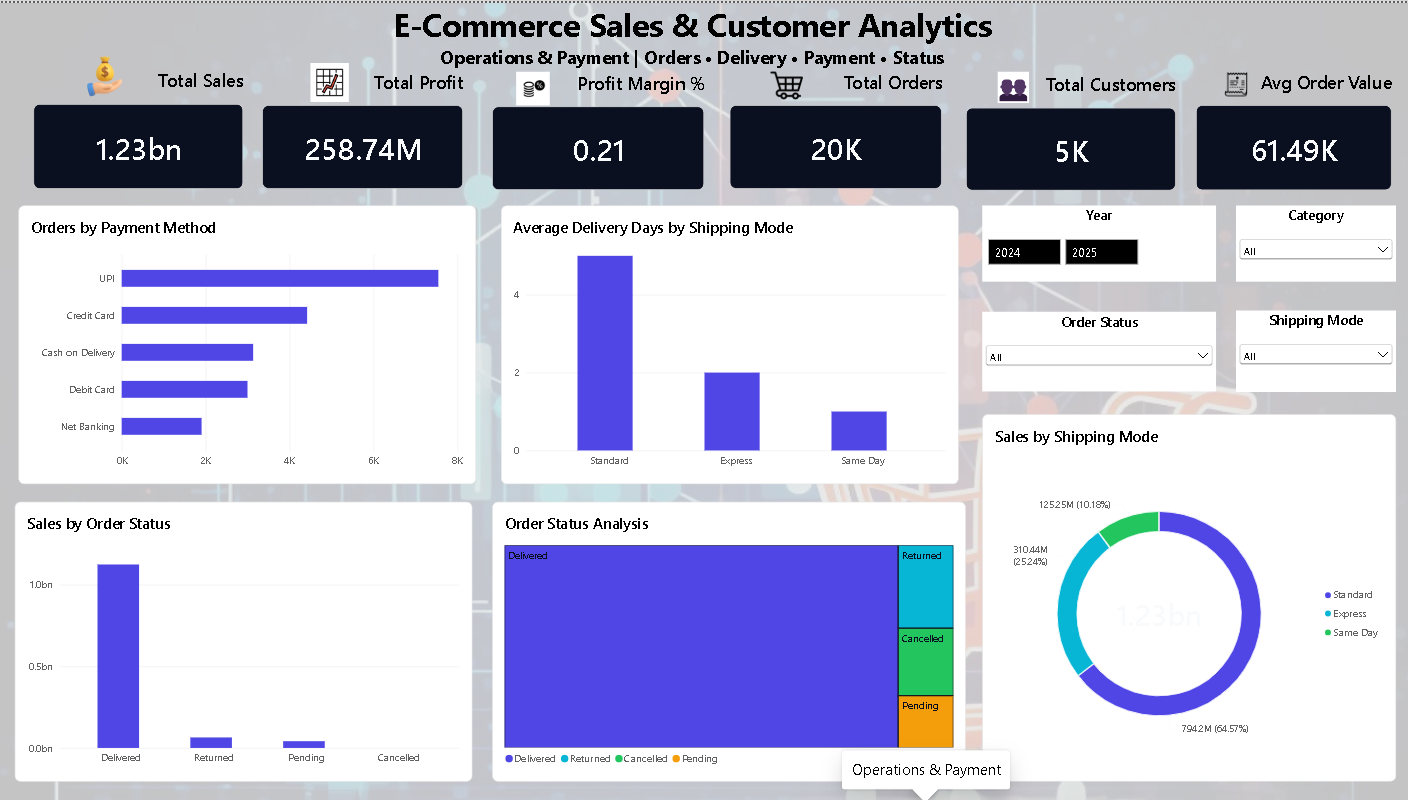

This screenshot's page, from the dashboard's own definition file:
{"tool":"powerbi","page":{"name":"Operations & Payment","canvas":[1920,1080],"ordinal":4},"visuals":[{"type":"textbox","box":[116.9,0,1653.1,130.2],"z":0},{"type":"cardVisual","title":"Total Sales","fields":{"Data":["FactSales.Total Sales"]},"box":[50.8,88.1,284.5,164.3],"z":1000},{"type":"cardVisual","title":"Total Profit","fields":{"Data":["FactSales.Total Profit"]},"box":[360.8,89.8,272.7,162.6],"z":2000},{"type":"cardVisual","title":"Avg Order Value","fields":{"Data":["FactSales.Average Order Value"]},"box":[1626,89.8,265.9,164.3],"z":3000},{"type":"cardVisual","title":"Total Orders","fields":{"Data":["FactSales.Total Orders"]},"box":[994.2,89.8,287.9,162.6],"z":4000},{"type":"cardVisual","title":"Profit Margin %","fields":{"Data":["FactSales.Profit Margin %"]},"box":[672.4,91.5,287.9,162.6],"z":5000},{"type":"cardVisual","title":"Total Customers","fields":{"Data":["FactSales.Total Customers"]},"box":[1314.3,93.2,284.5,160.9],"z":6000},{"type":"slicer","title":"Year ","fields":{"Values":["DimDate.Year"]},"box":[1336.4,274.4,316.7,103.3],"z":7000},{"type":"slicer","title":"Category","fields":{"Values":["DimPayment.PaymentMethod"]},"box":[1680.2,274.4,216.8,103.3],"z":8000},{"type":"image","box":[74.5,66.1,145.7,69.4],"z":9000},{"type":"image","box":[326.9,81.3,250.7,52.5],"z":10000},{"type":"image","box":[577.6,93.2,299.8,45.7],"z":11000},{"type":"image","box":[921.4,89.8,299.8,44],"z":12000},{"type":"image","box":[1238.1,93.2,281.2,42.3],"z":13000},{"type":"image","box":[1536.2,89.8,287.9,40.6],"z":14000},{"type":"slicer","title":"Shipping Mode","fields":{"Values":["DimShipping.ShippingMode"]},"box":[1680.2,416.7,216.8,110.1],"z":15000},{"type":"slicer","title":"Order Status","fields":{"Values":["FactSales.OrderStatus"]},"box":[1336.4,418.4,316.7,108.4],"z":16000},{"type":"clusteredBarChart","title":"Orders by Payment Method","fields":{"Category":["DimPayment.PaymentMethod"],"Y":["FactSales.Total Orders"]},"box":[30.5,274.4,619.9,377.7],"z":17000},{"type":"clusteredColumnChart","title":"Average Delivery Days by Shipping Mode","fields":{"Category":["DimShipping.ShippingMode"],"Y":["Avg(DimShipping.DeliveryDays)"]},"box":[684.3,274.4,619.9,377.7],"z":18000},{"type":"treemap","title":"Order Status Analysis","fields":{"Group":["FactSales.OrderStatus"],"Values":["FactSales.Total Orders"]},"box":[672.4,675.8,641.9,379.4],"z":19000},{"type":"clusteredColumnChart","title":"Sales by Order Status","fields":{"Category":["FactSales.OrderStatus"],"Y":["FactSales.Total Sales"]},"box":[25.4,675.8,619.9,379.4],"z":20000},{"type":"donutChart","title":"Sales by Shipping Mode","fields":{"Category":["DimShipping.ShippingMode"],"Y":["FactSales.Total Sales"]},"box":[1336.4,557.2,560.6,498],"z":21000}]}

Visuals, with their boxes in screenshot pixels (x1, y1, x2, y2), scaled from the page's 1920x1080 canvas onto the 1408x800 screenshot:
textbox: x1=86, y1=0, x2=1298, y2=96
"Total Sales" cardVisual: x1=37, y1=65, x2=246, y2=187
"Total Profit" cardVisual: x1=265, y1=67, x2=465, y2=187
"Avg Order Value" cardVisual: x1=1192, y1=67, x2=1387, y2=188
"Total Orders" cardVisual: x1=729, y1=67, x2=940, y2=187
"Profit Margin %" cardVisual: x1=493, y1=68, x2=704, y2=188
"Total Customers" cardVisual: x1=964, y1=69, x2=1172, y2=188
"Year " slicer: x1=980, y1=203, x2=1212, y2=280
"Category" slicer: x1=1232, y1=203, x2=1391, y2=280
image: x1=55, y1=49, x2=161, y2=100
image: x1=240, y1=60, x2=424, y2=99
image: x1=424, y1=69, x2=643, y2=103
image: x1=676, y1=67, x2=896, y2=99
image: x1=908, y1=69, x2=1114, y2=100
image: x1=1127, y1=67, x2=1338, y2=97
"Shipping Mode" slicer: x1=1232, y1=309, x2=1391, y2=390
"Order Status" slicer: x1=980, y1=310, x2=1212, y2=390
"Orders by Payment Method" clusteredBarChart: x1=22, y1=203, x2=477, y2=483
"Average Delivery Days by Shipping Mode" clusteredColumnChart: x1=502, y1=203, x2=956, y2=483
"Order Status Analysis" treemap: x1=493, y1=501, x2=964, y2=782
"Sales by Order Status" clusteredColumnChart: x1=19, y1=501, x2=473, y2=782
"Sales by Shipping Mode" donutChart: x1=980, y1=413, x2=1391, y2=782
